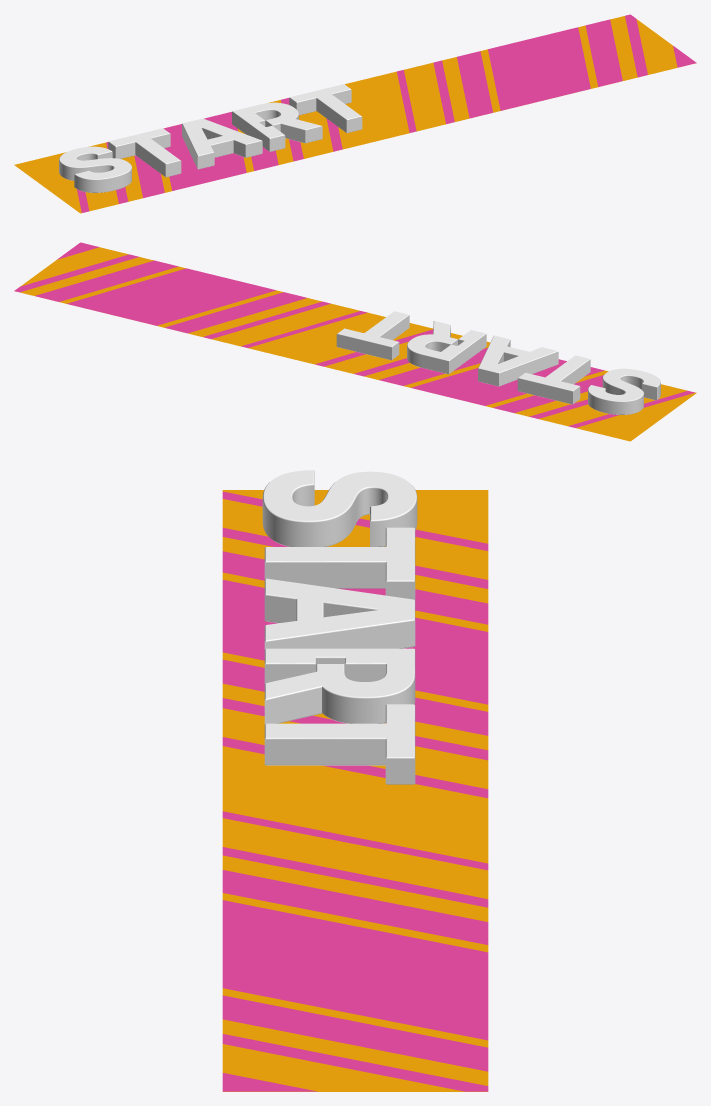
File: start-true-color.glb
3 renders of one model, top to bottom at view 1: azimuth 30°, elevation 25°; view 2: azimuth 150°, elevation 25°; view 3: azimuth 270°, elevation 25°, orthographic. The views are drawn at different scales.
Visible parts, largest first — view 1: Shape 0, Text, Shape 11, Shape 4, Shape 14, Shape 10, Shape 3, Shape 12, Shape 9, Shape 8, Shape 5; view 2: Shape 0, Text, Shape 11, Shape 4, Shape 14, Shape 10, Shape 5, Shape 3, Shape 12, Shape 9, Shape 8, Shape 1 (+1 smaller); view 3: Shape 0, Text, Shape 11, Shape 4, Shape 14, Shape 10, Shape 5, Shape 12, Shape 3, Shape 9, Shape 8, Shape 7 (+4 smaller).
Part boxes in pixels (x1=…): Shape 0: x1=14, y1=16, x2=680, y2=213; Text: x1=59, y1=84, x2=362, y2=192; Shape 11: x1=488, y1=27, x2=590, y2=110; Shape 4: x1=163, y1=112, x2=246, y2=190; Shape 14: x1=585, y1=19, x2=622, y2=86; Shape 10: x1=457, y1=51, x2=492, y2=118; Shape 3: x1=134, y1=155, x2=164, y2=198; Shape 12: x1=625, y1=14, x2=647, y2=77; Shape 9: x1=433, y1=60, x2=454, y2=124; Shape 8: x1=397, y1=70, x2=416, y2=132; Shape 5: x1=251, y1=147, x2=278, y2=170; Shape 0: x1=20, y1=247, x2=696, y2=441; Text: x1=336, y1=311, x2=660, y2=414; Shape 11: x1=66, y1=268, x2=275, y2=325; Shape 4: x1=411, y1=359, x2=604, y2=405; Shape 14: x1=35, y1=260, x2=178, y2=301; Shape 10: x1=164, y1=292, x2=306, y2=333; Shape 5: x1=379, y1=347, x2=487, y2=385; Shape 3: x1=493, y1=375, x2=603, y2=412; Shape 12: x1=14, y1=254, x2=139, y2=292; Shape 9: x1=203, y1=301, x2=330, y2=338; Shape 8: x1=241, y1=311, x2=367, y2=347; Shape 1: x1=568, y1=391, x2=694, y2=427; Shape 0: x1=222, y1=490, x2=488, y2=1091; Text: x1=262, y1=470, x2=417, y2=784; Shape 11: x1=222, y1=900, x2=488, y2=1040; Shape 4: x1=222, y1=580, x2=488, y2=704; Shape 14: x1=222, y1=995, x2=488, y2=1071; Shape 10: x1=222, y1=870, x2=488, y2=944; Shape 5: x1=222, y1=659, x2=488, y2=735; Shape 12: x1=222, y1=1034, x2=488, y2=1091; Shape 3: x1=222, y1=551, x2=488, y2=624; Shape 9: x1=222, y1=847, x2=488, y2=907; Shape 8: x1=222, y1=811, x2=488, y2=870; Shape 7: x1=222, y1=737, x2=488, y2=798.
Bounding box in the file's own units: 92.18 × 2.66 × 17.21.
